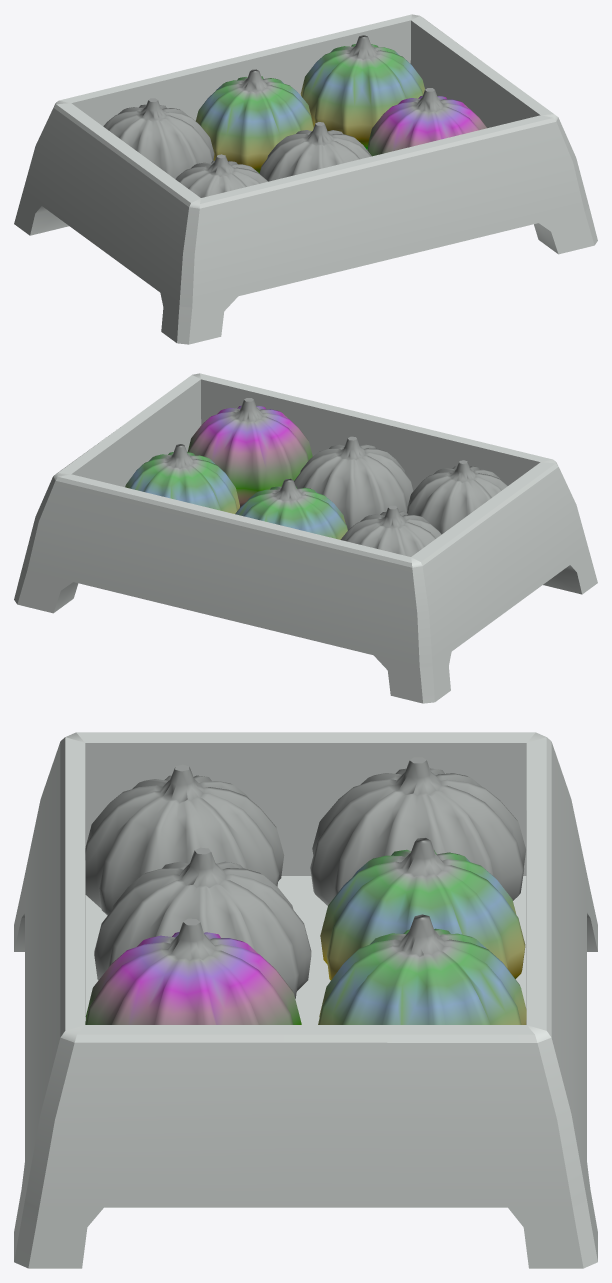
3 views of the same model, one above another, from view 1: azimuth 30°, elevation 25°; view 2: azimuth 150°, elevation 25°; view 3: azimuth 270°, elevation 25° (orthographic). The views are drawn at different scales.
Visible parts, largest first — view 1: G:\FFXIV-MapTools\exports\y6f3\bg\ex5\02_ykt_y6\fld\y6f3\bgp (×5); view 2: G:\FFXIV-MapTools\exports\y6f3\bg\ex5\02_ykt_y6\fld\y6f3\bgp (×5); view 3: G:\FFXIV-MapTools\exports\y6f3\bg\ex5\02_ykt_y6\fld\y6f3\bgp (×5).
Boxes of the visible parts, left/top/right/bottom form: G:\FFXIV-MapTools\exports\y6f3\bg\ex5\02_ykt_y6\fld\y6f3\bgp (×5): left=14, top=14, right=597, bottom=344; G:\FFXIV-MapTools\exports\y6f3\bg\ex5\02_ykt_y6\fld\y6f3\bgp (×5): left=14, top=373, right=597, bottom=703; G:\FFXIV-MapTools\exports\y6f3\bg\ex5\02_ykt_y6\fld\y6f3\bgp (×5): left=14, top=732, right=597, bottom=1268.
Bounding box in the file's own units: 2.22 × 0.7446 × 1.57.
